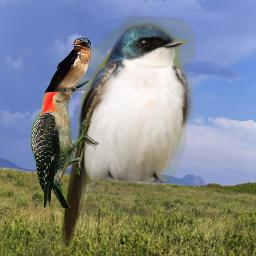Swallow: (61, 15, 195, 249), (44, 37, 91, 98)
Woodpecker: (31, 80, 99, 208)
